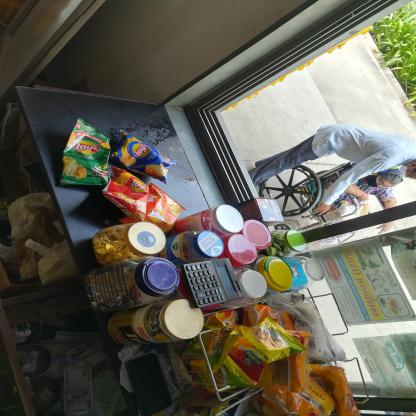chile_limon: (60, 113, 113, 185)
hot_and_sweet: (143, 182, 182, 231)
indian_magic_masala: (113, 131, 170, 182)
tangy_tomato: (114, 169, 150, 214)
